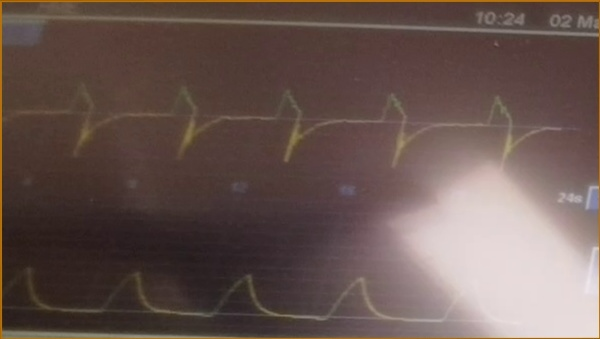Accumulation Flow: (7, 63, 560, 175)
Volume: (3, 237, 487, 329)
